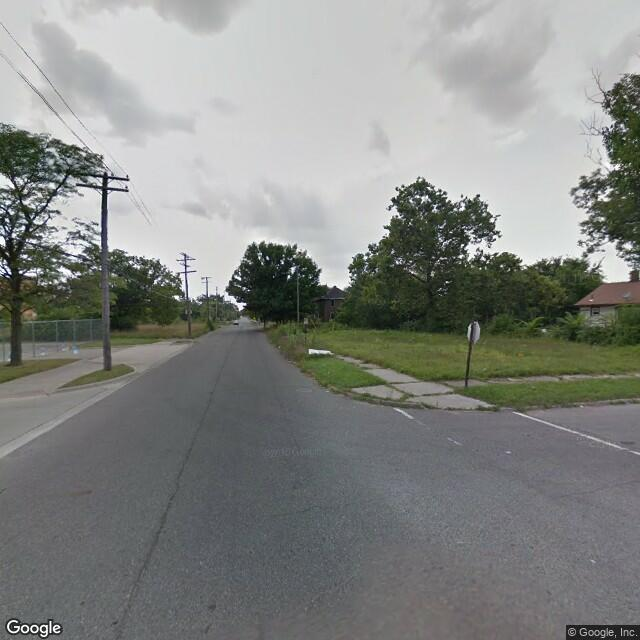litter: (308, 348, 331, 355), (325, 388, 332, 392), (579, 404, 584, 409)
